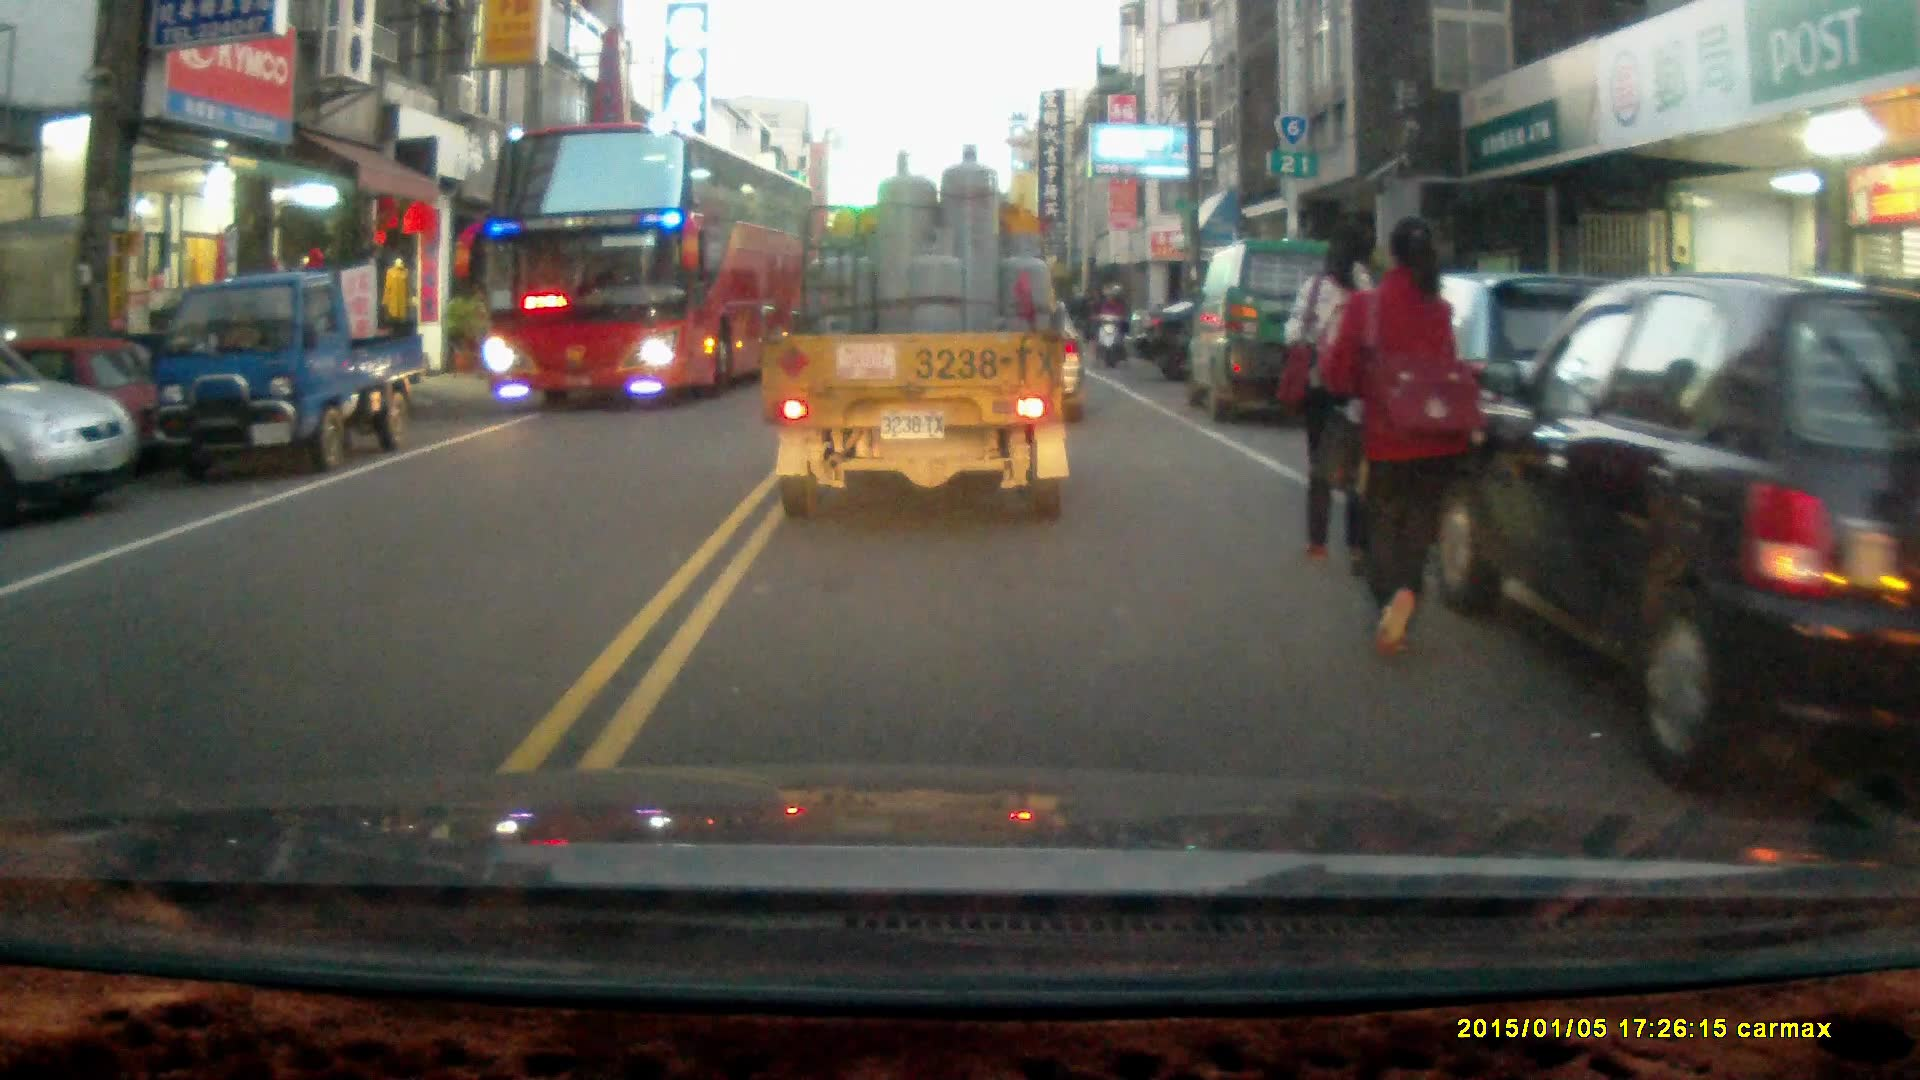pedestrian: (1324, 211, 1469, 664), (1285, 214, 1403, 580)
rider: (1092, 280, 1132, 368)
vehicle: (1437, 270, 1920, 782), (757, 142, 1078, 521), (477, 121, 816, 413), (144, 273, 428, 472), (1194, 236, 1371, 422), (1, 331, 138, 520)
